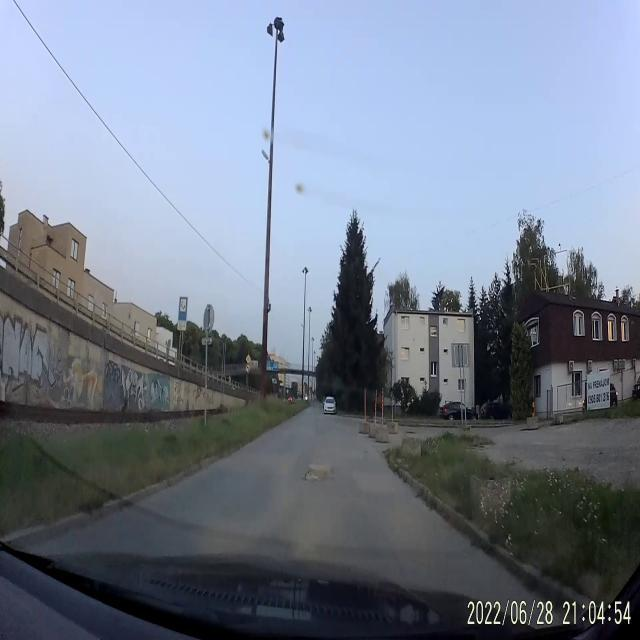Pothole: (301, 462, 337, 486)
